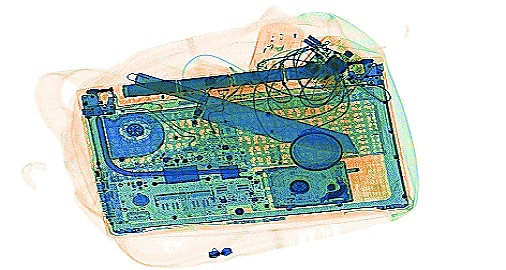knife: (123, 69, 359, 154)
